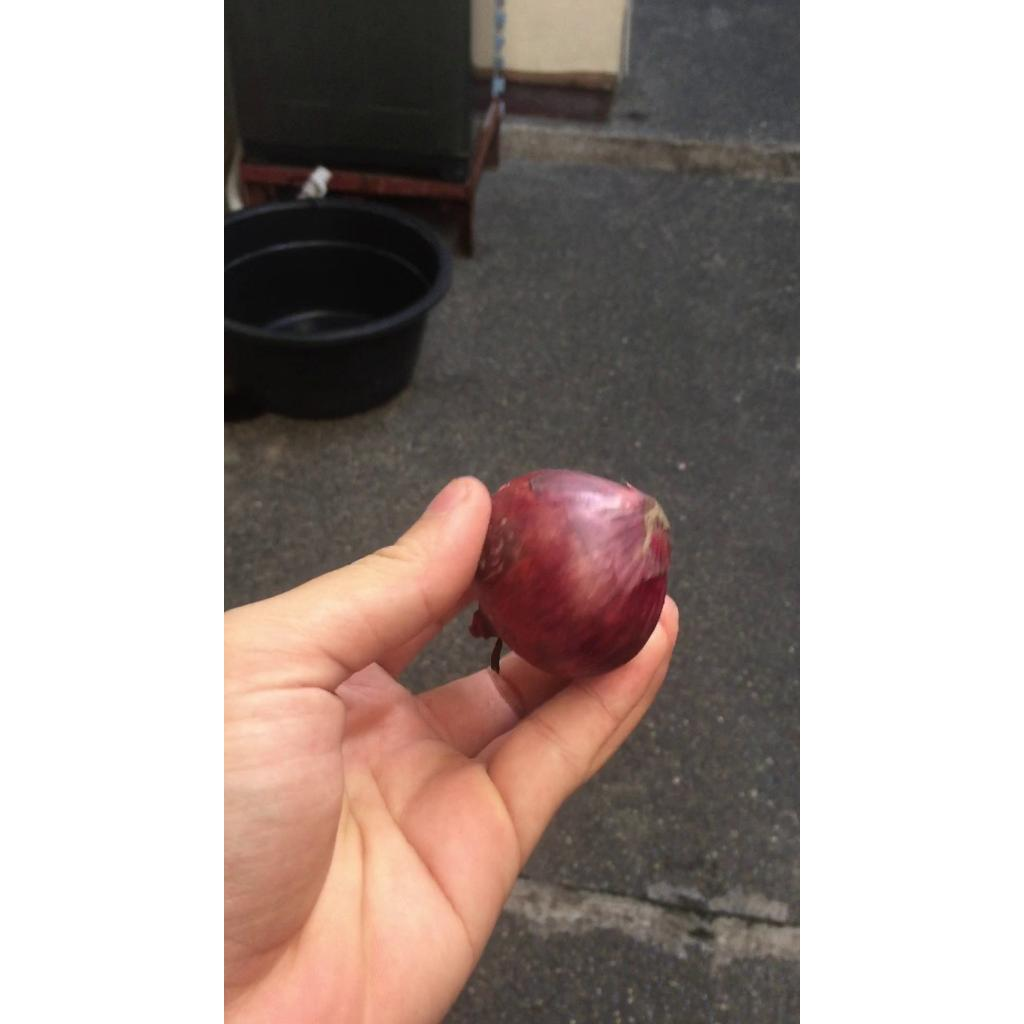Onion: (469, 470, 670, 678)
